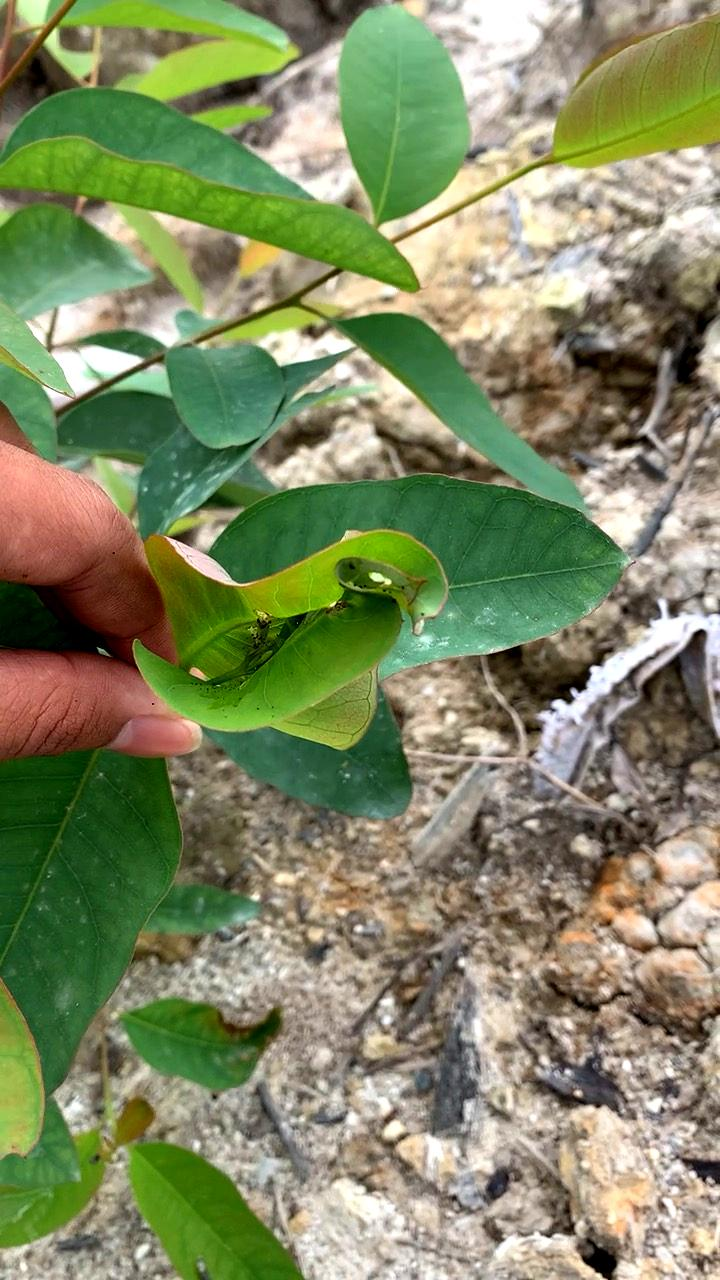Leaf Roller - Leaf: (95, 498, 476, 776)
